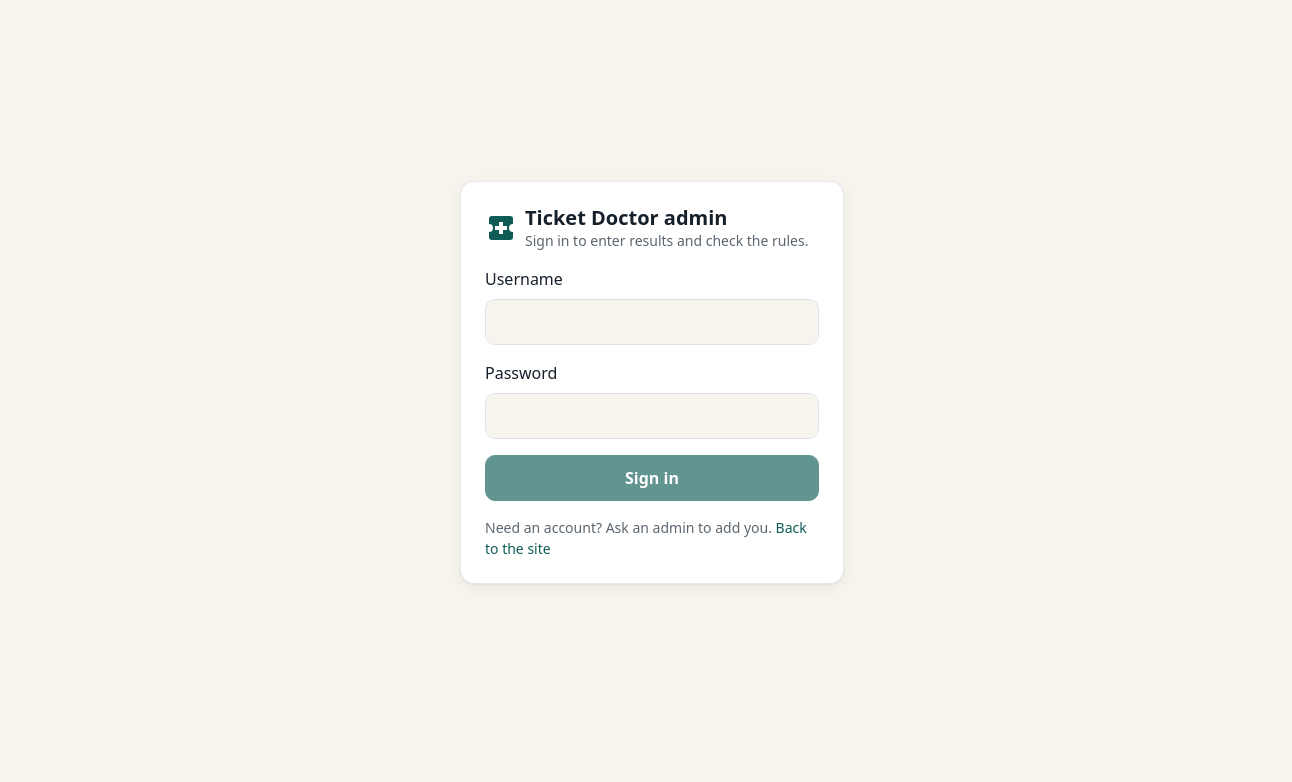
Scenario: Admin area (B6) › sends a signed-out visitor to sign in, then back to the page they wanted
In the field labelled "Username": (652, 322) [485,298,819,344], type "admin"
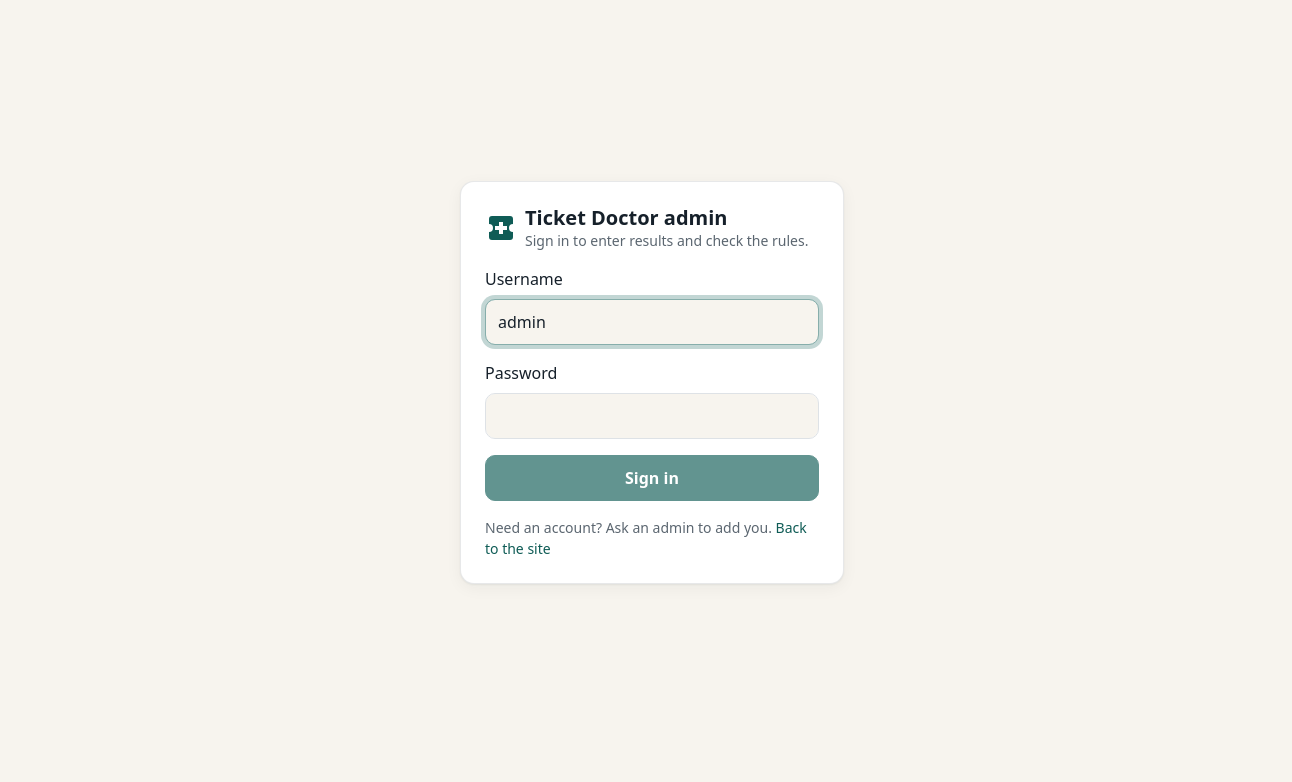
In the password field labelled "Password": (652, 416) [485,392,819,438], type "wrong password!!"
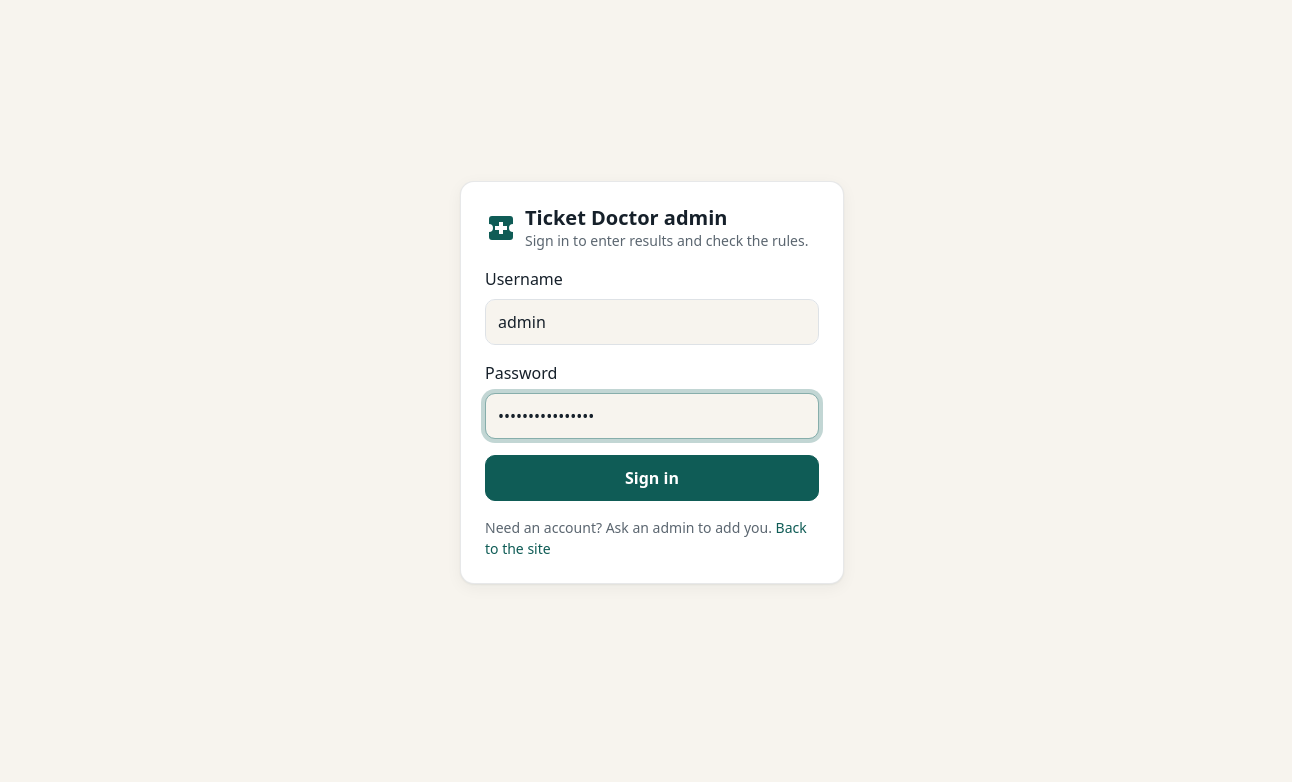
Click the button "Sign in": (652, 478) [485,454,819,500]
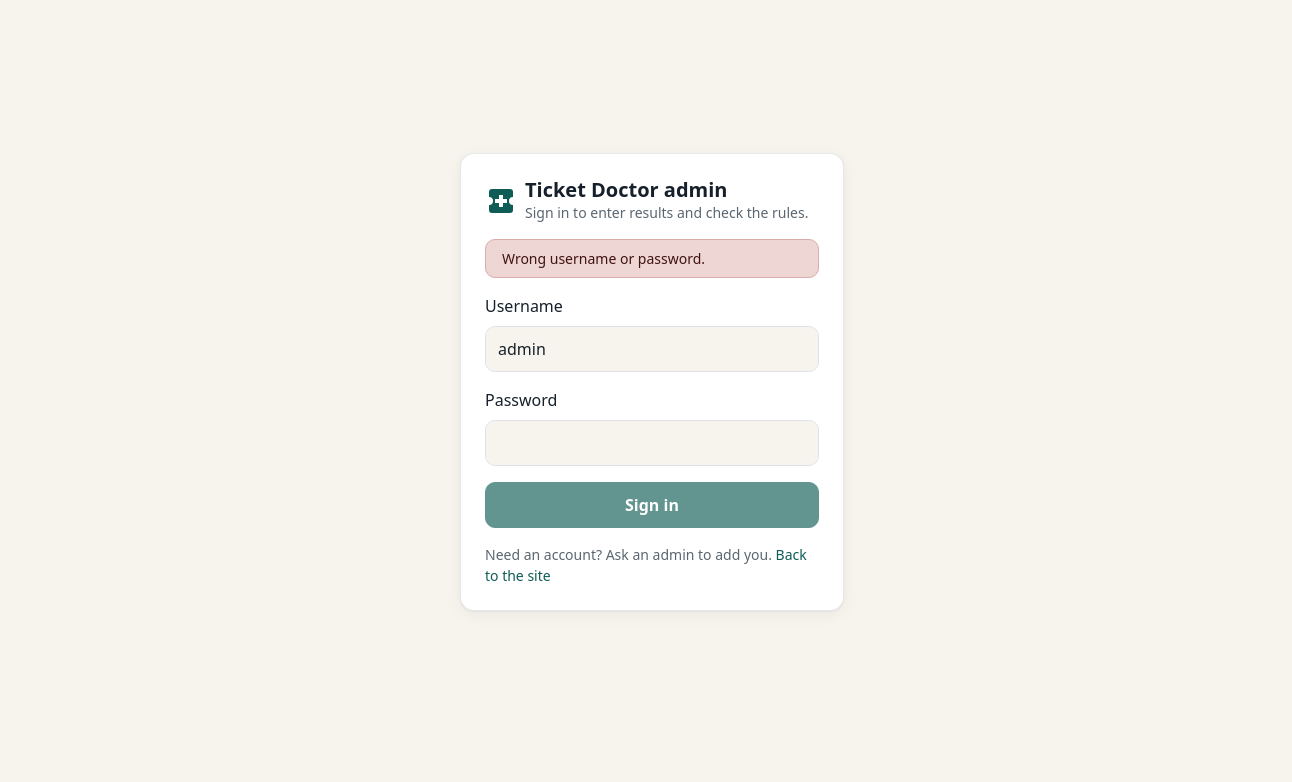
Now the message reads "Wrong username or password.", box [502,249,705,268]
Now the password field labelled "Password" is empty
In the password field labelled "Password": (652, 443) [485,420,819,466], type "mock password 123"
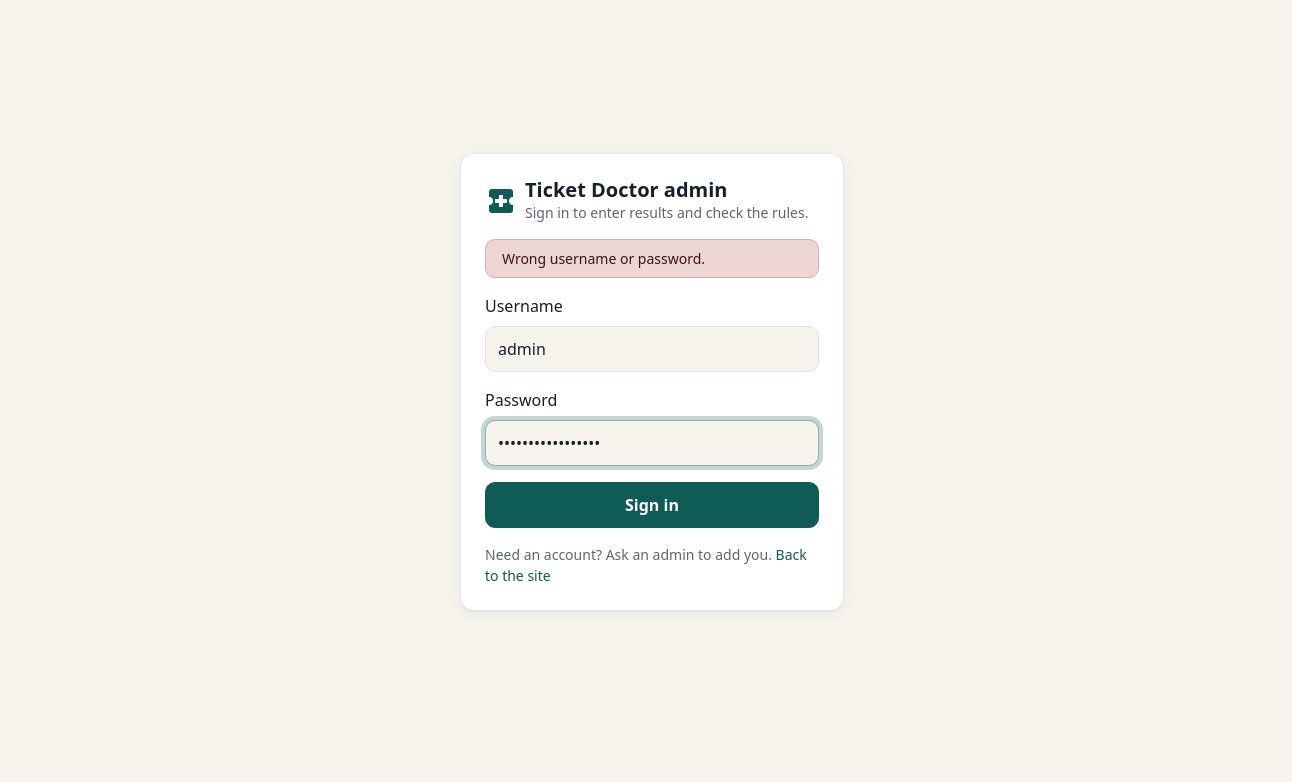
Click the button "Sign in": (652, 505) [485,482,819,528]
(page scrolled)
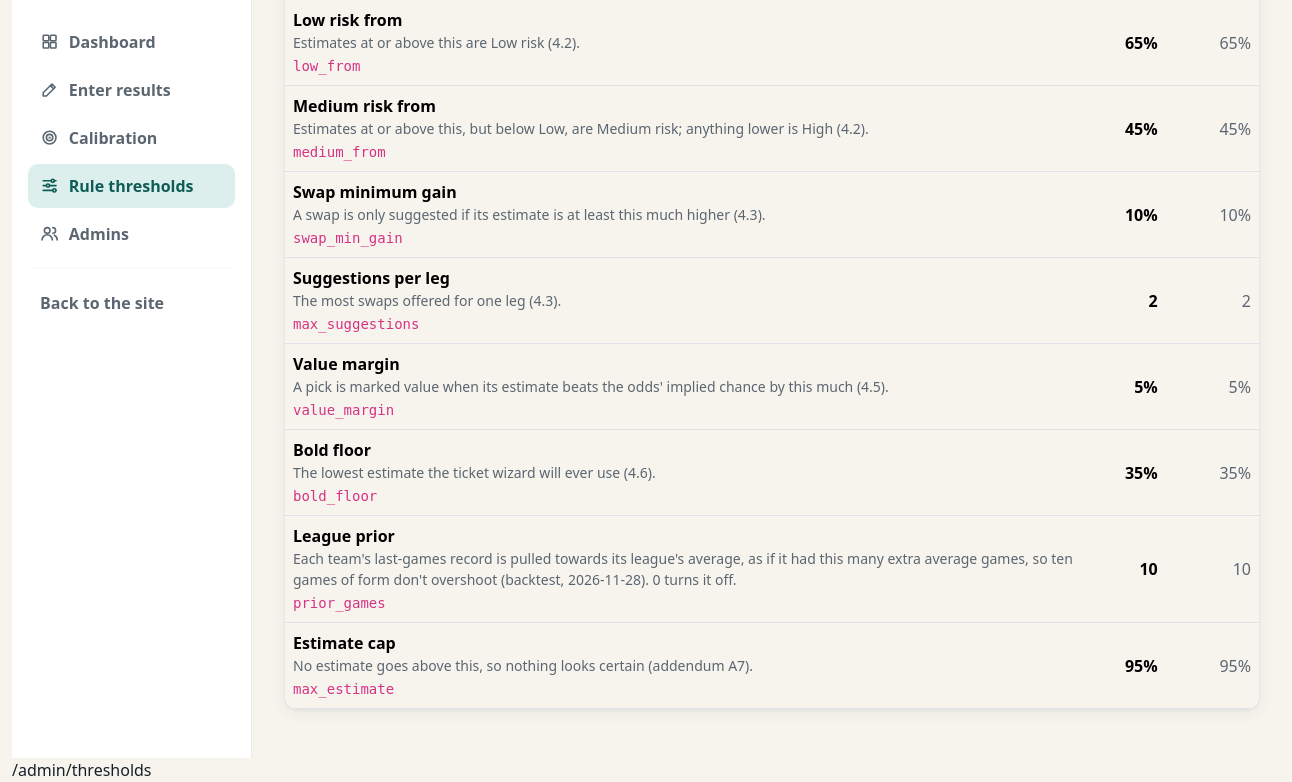
Now the text with test id "location" reads "/admin/thresholds", box [12,759,152,781]
